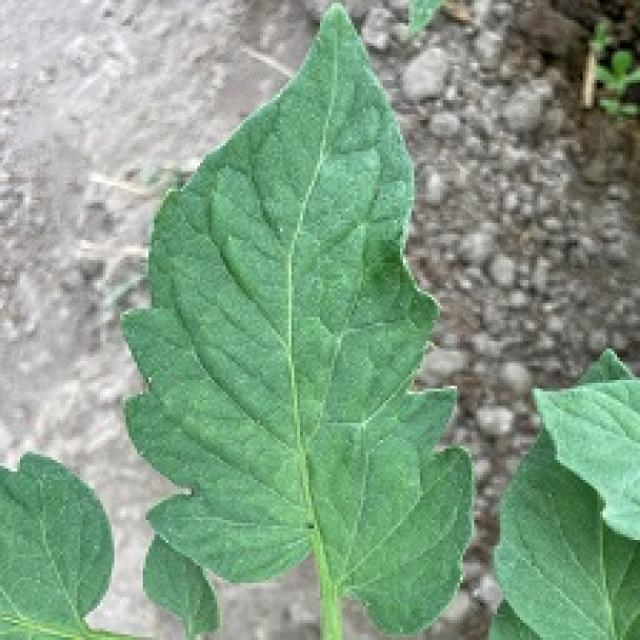Healthy: (42, 1, 518, 640)
